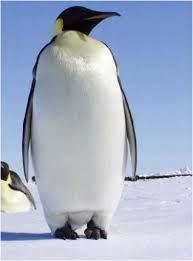emporer: (17, 3, 142, 245)
